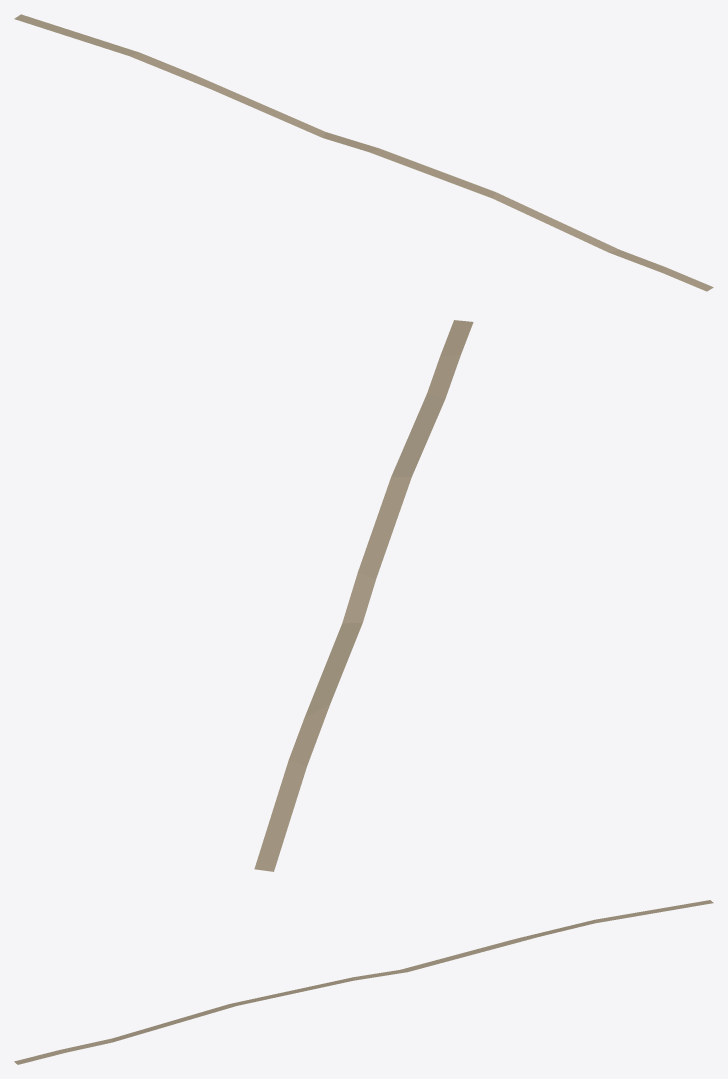
The model's file is farm_-32_-38_track.glb.
3 views of the same model, one above another, from view 1: azimuth 30°, elevation 25°; view 2: azimuth 150°, elevation 25°; view 3: azimuth 270°, elevation 25° (orthographic). The views are drawn at different scales.
Visible parts, largest first — view 1: geometry_0; view 2: geometry_0; view 3: geometry_0.
Part boxes in pixels (bbox=[...]): geometry_0: bbox=[14, 14, 713, 291]; geometry_0: bbox=[254, 320, 473, 871]; geometry_0: bbox=[14, 900, 713, 1064].
Bounding box in the file's own units: 98.15 × 15.21 × 232.
